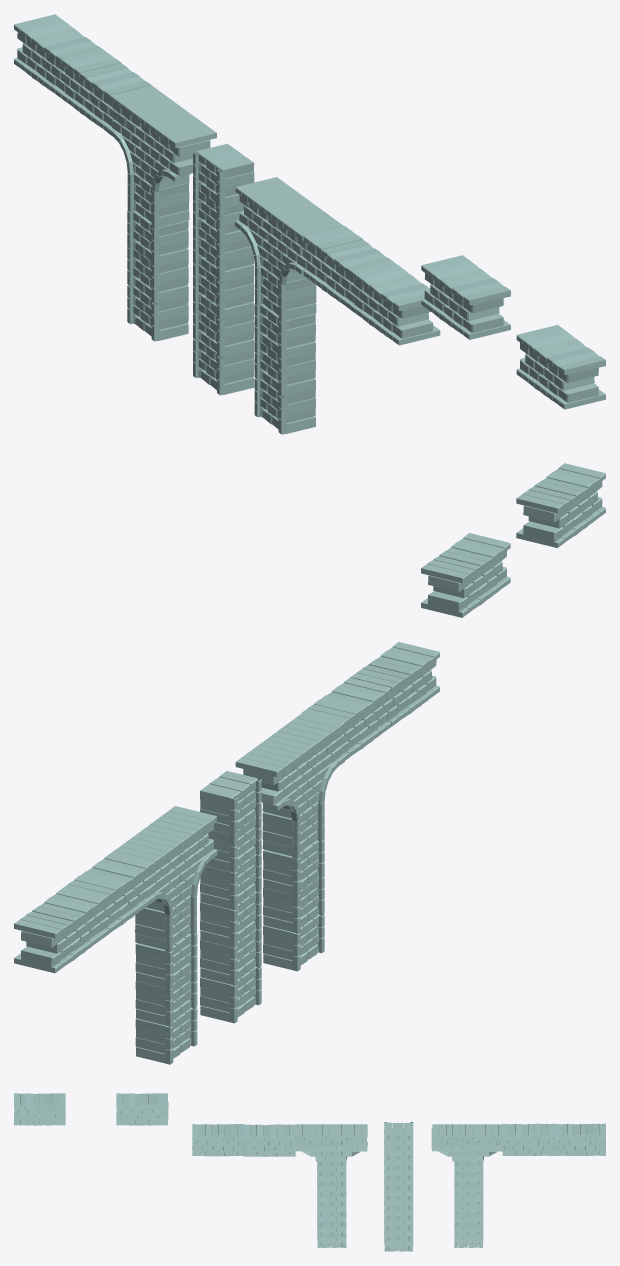
File: Escenario2.fbx
3 renders of one model, top to bottom at view 1: azimuth 30°, elevation 25°; view 2: azimuth 150°, elevation 25°; view 3: azimuth 270°, elevation 25°, orthographic. The views are drawn at different scales.
Visible parts, largest first — view 1: polySurface3892; view 2: polySurface3892; view 3: polySurface3892.
Part boxes in pixels (left/top/right/bottom): polySurface3892: left=14, top=14, right=605, bottom=434; polySurface3892: left=14, top=463, right=605, bottom=1064; polySurface3892: left=14, top=1093, right=605, bottom=1251.
Bounding box in the file's own units: 1.36 × 8.31 × 29.81.
